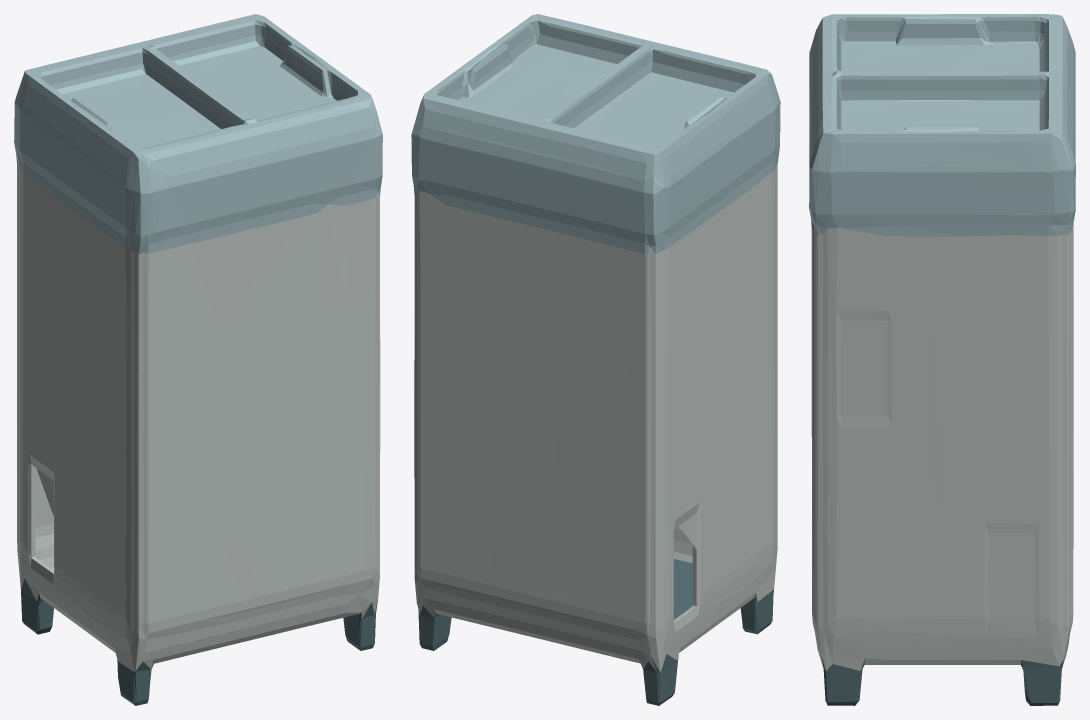
File: fridge_2.glb
The picture shows the model from 3 angles, left to right: view 1: azimuth 30°, elevation 25°; view 2: azimuth 150°, elevation 25°; view 3: azimuth 270°, elevation 25°; orthographic projection. The views are drawn at different scales.
Parts seen in each view (by area): view 1: fridge_2; view 2: fridge_2; view 3: fridge_2.
Part boxes in pixels (<box>): fridge_2: <box>14,14,382,705</box>; fridge_2: <box>411,14,780,705</box>; fridge_2: <box>809,14,1075,705</box>.
Bounding box in the file's own units: 0.9 × 1.9 × 0.8.
